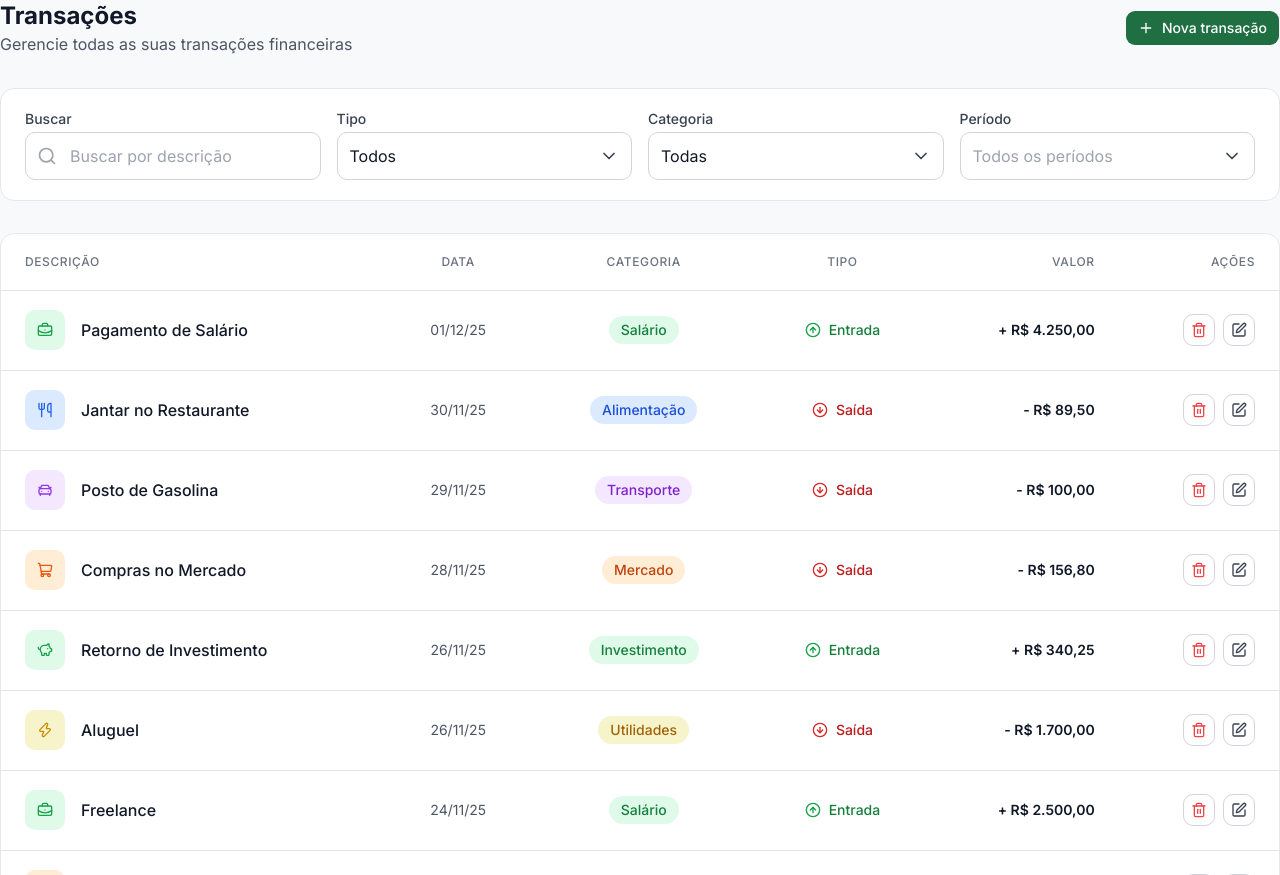
Scenario: Transactions page › does not delete when the user cancels the confirmation
What coordinates should you click on to do the following:
click the button named "Excluir Pagamento de Salário"
I would click on:
 (1199, 330)
Its box is [1183,314,1215,346].
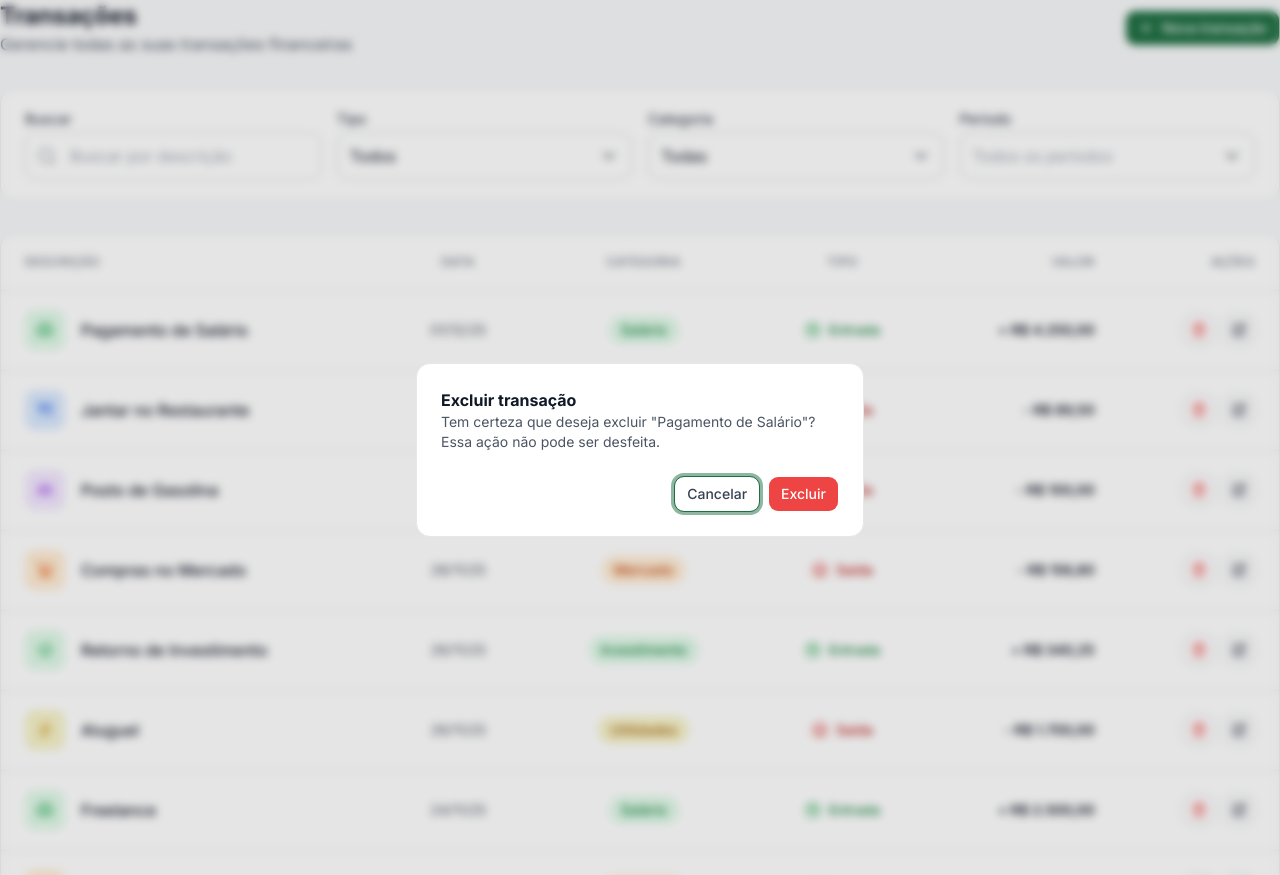
What coordinates should you click on to do the following:
click the button "Cancelar"
I would click on:
 (717, 494)
Its box is [674,476,760,512].
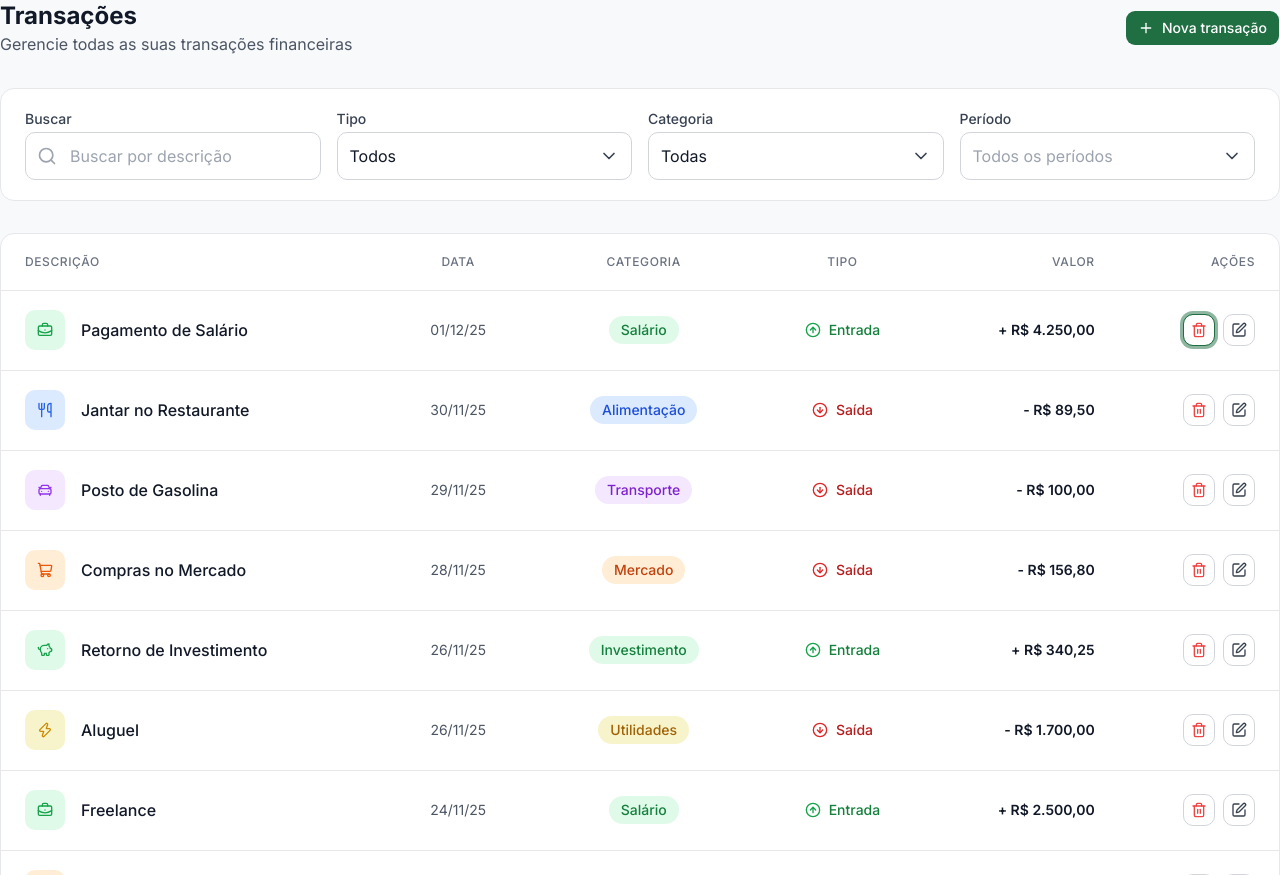
Expected: the text "Pagamento de Salário" is shown, [25,310,248,350]
Now the heading "Excluir transação" is gone
